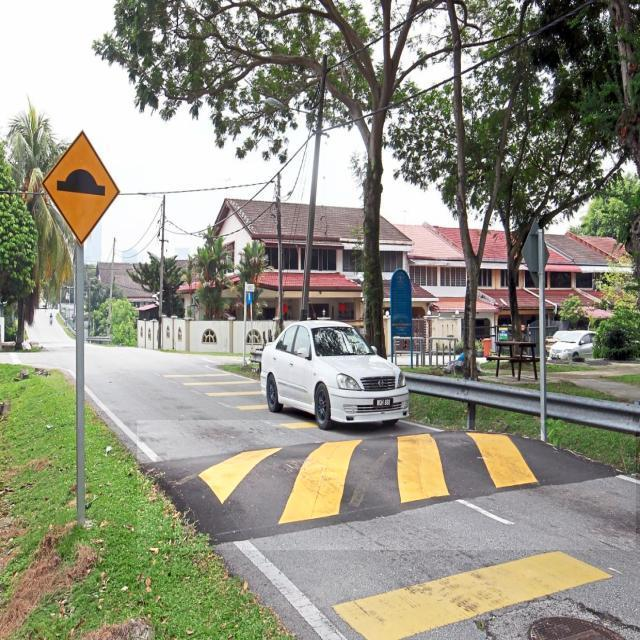Marked Bump: (160, 438, 593, 525)
